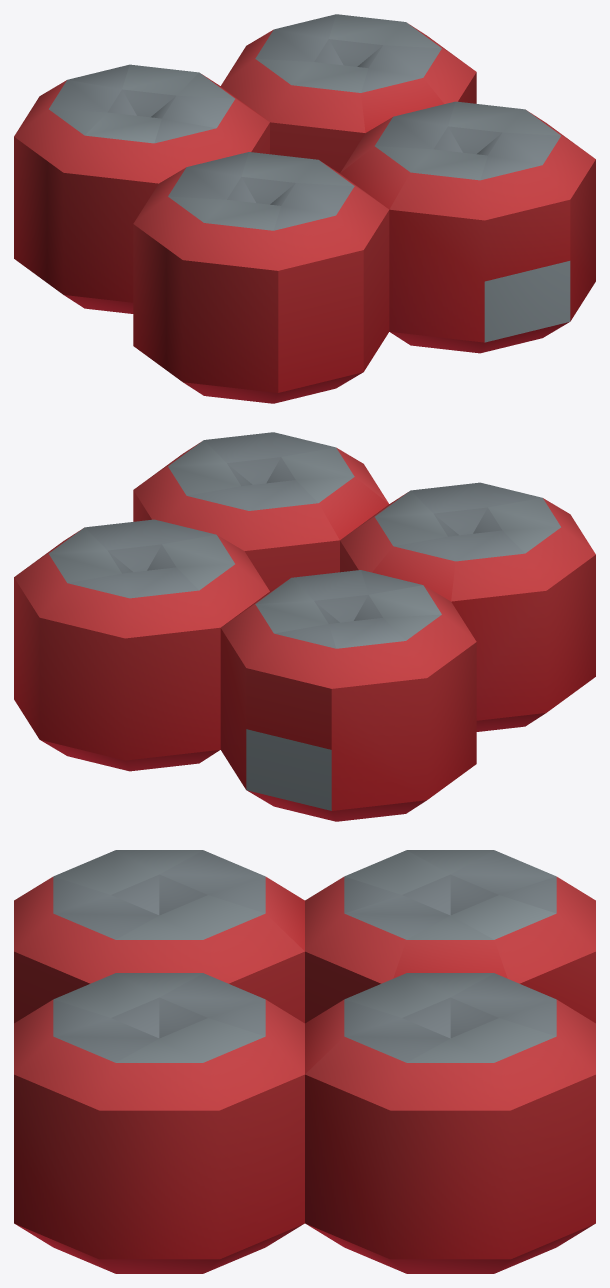
Rendered from space-containers-d.glb.
3 views of the same model, one above another, from view 1: azimuth 30°, elevation 25°; view 2: azimuth 150°, elevation 25°; view 3: azimuth 270°, elevation 25° (orthographic). The views are drawn at different scales.
Visible parts, largest first — view 1: containers_D; view 2: containers_D; view 3: containers_D.
Boxes of the visible parts, box(x1,y1,x2,y2) form: containers_D: box(14, 14, 595, 403); containers_D: box(14, 432, 595, 821); containers_D: box(14, 850, 595, 1273).
Size of the model in its own units: 0.5 by 0.2 by 0.5.
